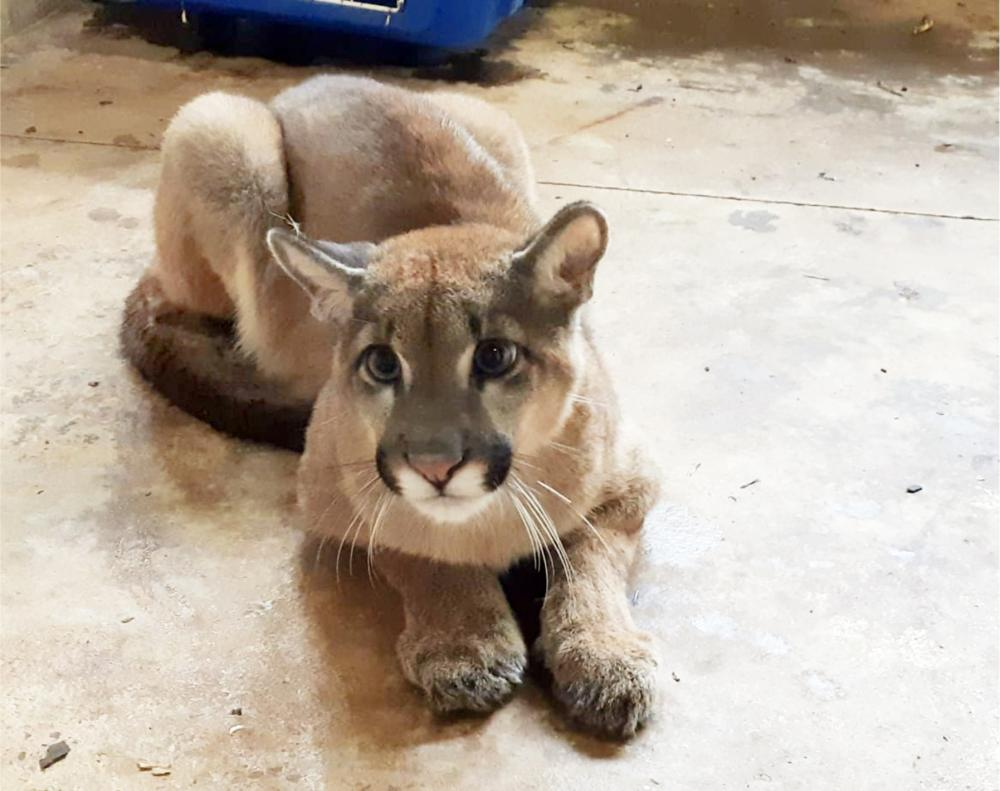OncaParda: (112, 67, 671, 753)
